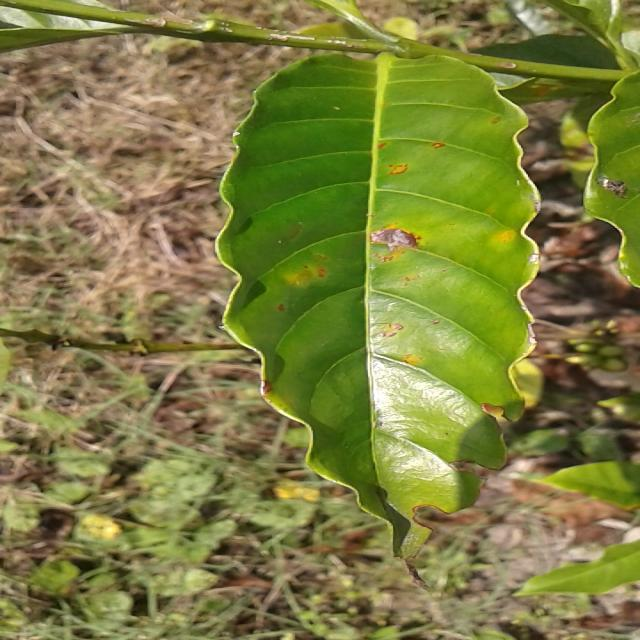Enfermedad-Roya: (214, 46, 542, 560)
